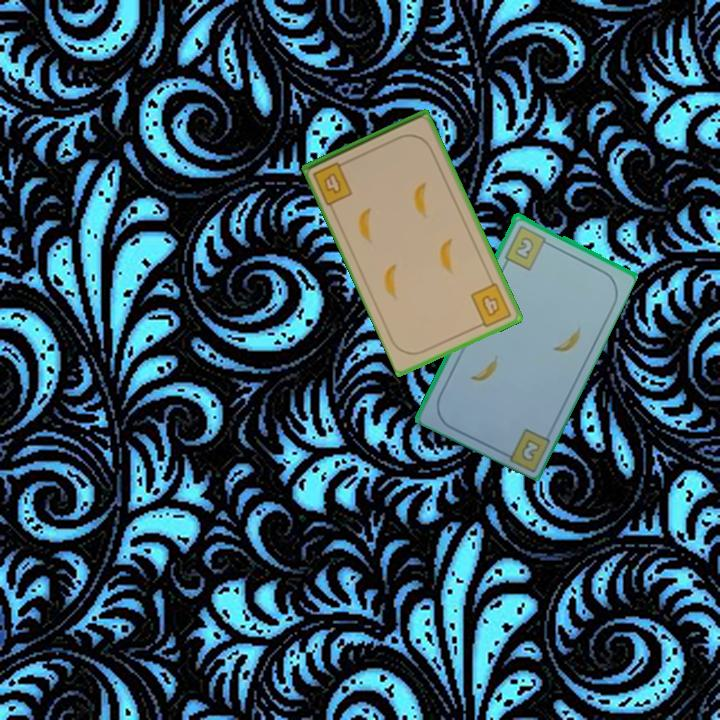2b: (501, 222, 553, 272), (517, 435, 543, 462)
4b: (467, 279, 515, 331), (309, 157, 356, 208)
